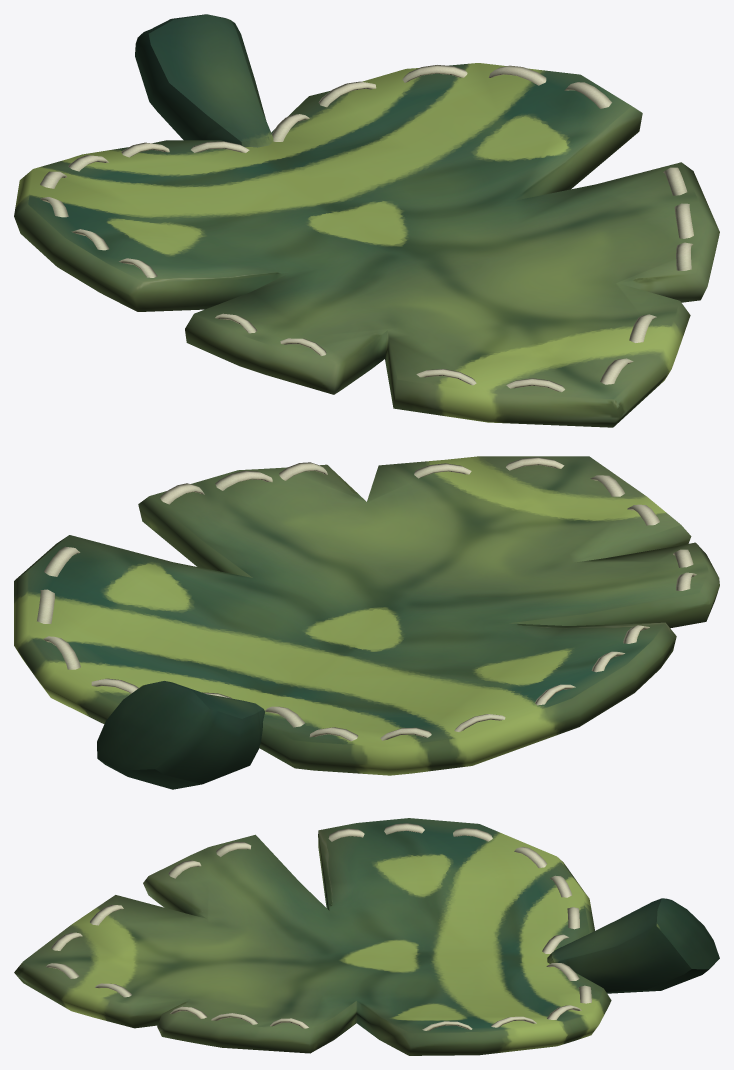
File: FlyingLeaf_.fbx
3 views of the same model, one above another, from view 1: azimuth 30°, elevation 25°; view 2: azimuth 150°, elevation 25°; view 3: azimuth 270°, elevation 25° (orthographic). The views are drawn at different scales.
Parts seen in each view (by area): view 1: 1_low; view 2: 1_low; view 3: 1_low.
Part boxes in pixels (x1,y1,x2,y2): 1_low: (14,14,719,427); 1_low: (14,456,719,789); 1_low: (14,818,719,1055).
Size of the model in its own units: 6.76 by 1.28 by 9.23.
